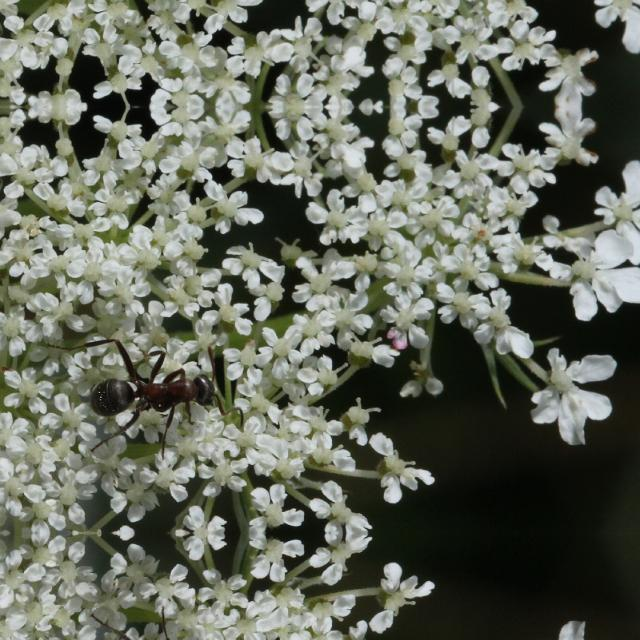Formica: (82, 336, 244, 444)
